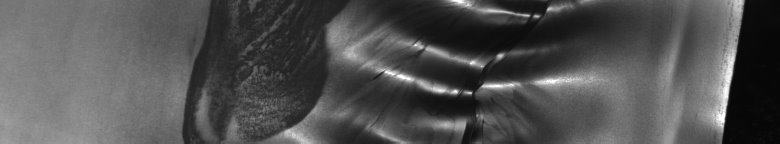ke: (180, 4, 589, 136)
